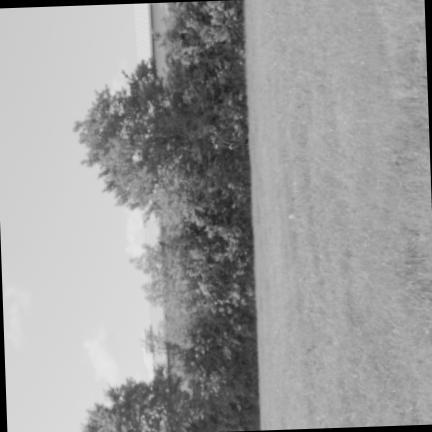Shahed: (211, 135, 248, 149)
